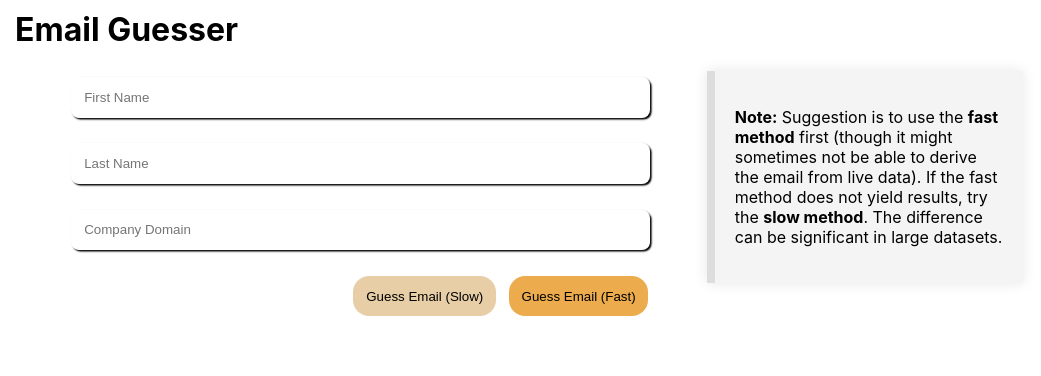
EMailGuesser › displays error when fields are invalid
This screenshot has width=1041, height=376.
Step 1. Type "John" into the field with placeholder "First Name" → (361, 98), box [71,77,650,118]
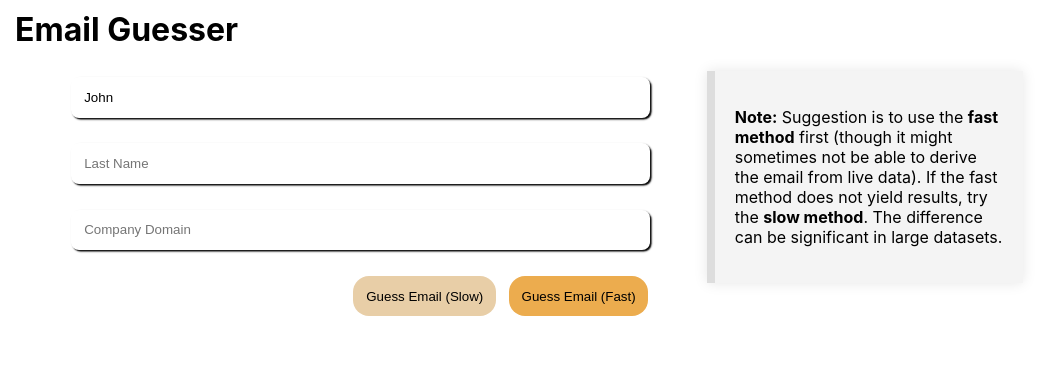
Step 2. Type "Doe" into the field with placeholder "Last Name" → (361, 164), box [71,143,650,184]
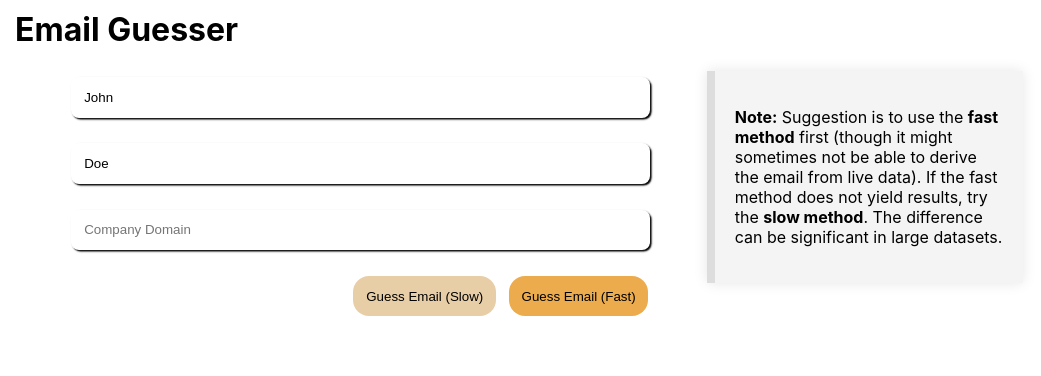
Step 3. Type "invalid_domain" into the field with placeholder "Company Domain" → (361, 230), box [71,210,650,250]
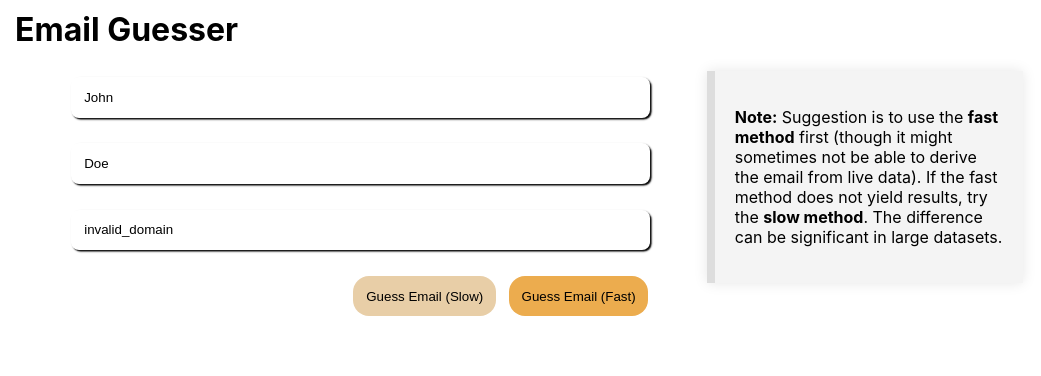
Step 4. Click the button "Guess Email (Fast)" → click(579, 296), box [509,276,648,316]
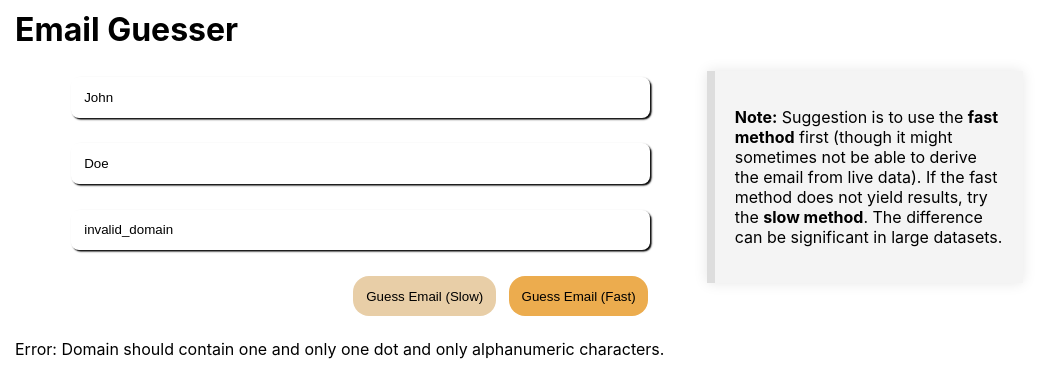
Expected: the text "Domain should contain one and only one dot and only alphanumeric characters." is shown, [61,339,664,359]
